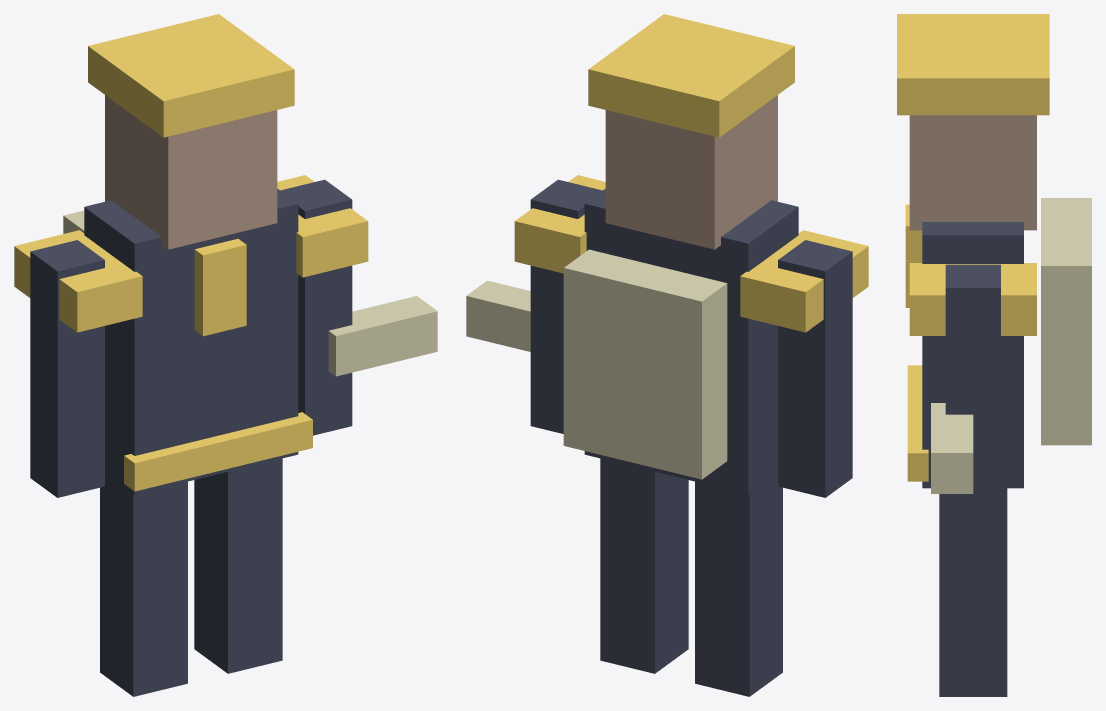
The model's file is 07_makoa_spirebound_medic_at_mag_rail.glb.
3 renders of one model, left to right at view 1: azimuth 30°, elevation 25°; view 2: azimuth 150°, elevation 25°; view 3: azimuth 270°, elevation 25°, orthographic.
Visible parts, largest first — view 1: Makoa Spirebound, Medic at Mag-Rail; view 2: Makoa Spirebound, Medic at Mag-Rail; view 3: Makoa Spirebound, Medic at Mag-Rail.
Part boxes in pixels (<box>): Makoa Spirebound, Medic at Mag-Rail: <box>14,14,437,696</box>; Makoa Spirebound, Medic at Mag-Rail: <box>466,14,868,696</box>; Makoa Spirebound, Medic at Mag-Rail: <box>897,14,1091,696</box>.
Bounding box in the file's own units: 1.08 × 1.69 × 0.4862.
